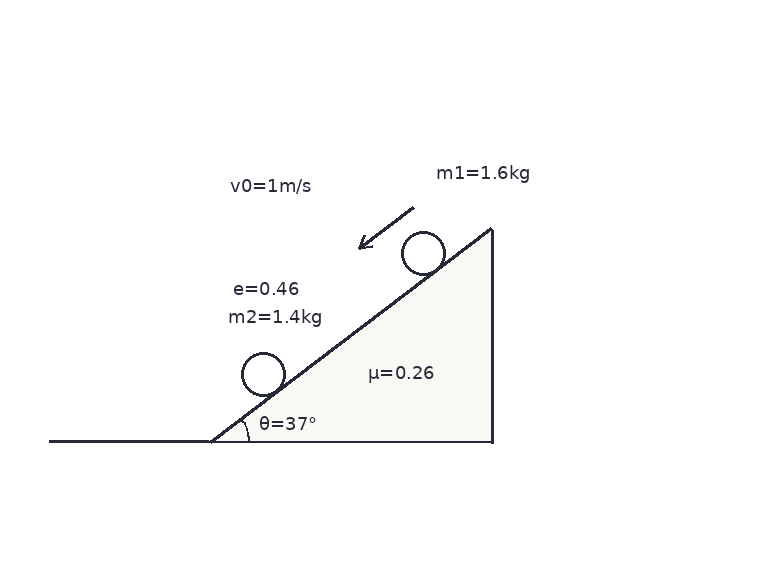ball: (399, 229, 447, 277), (239, 350, 287, 398)
ramp: (207, 227, 494, 444)
